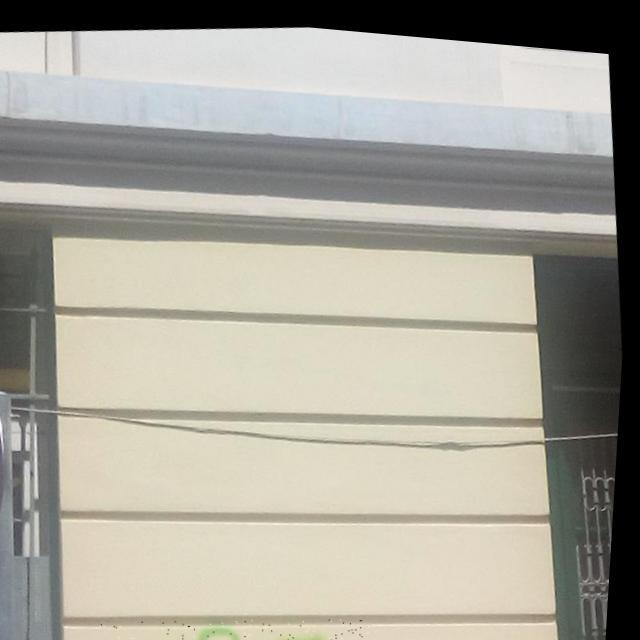-: (105, 590, 384, 640)
